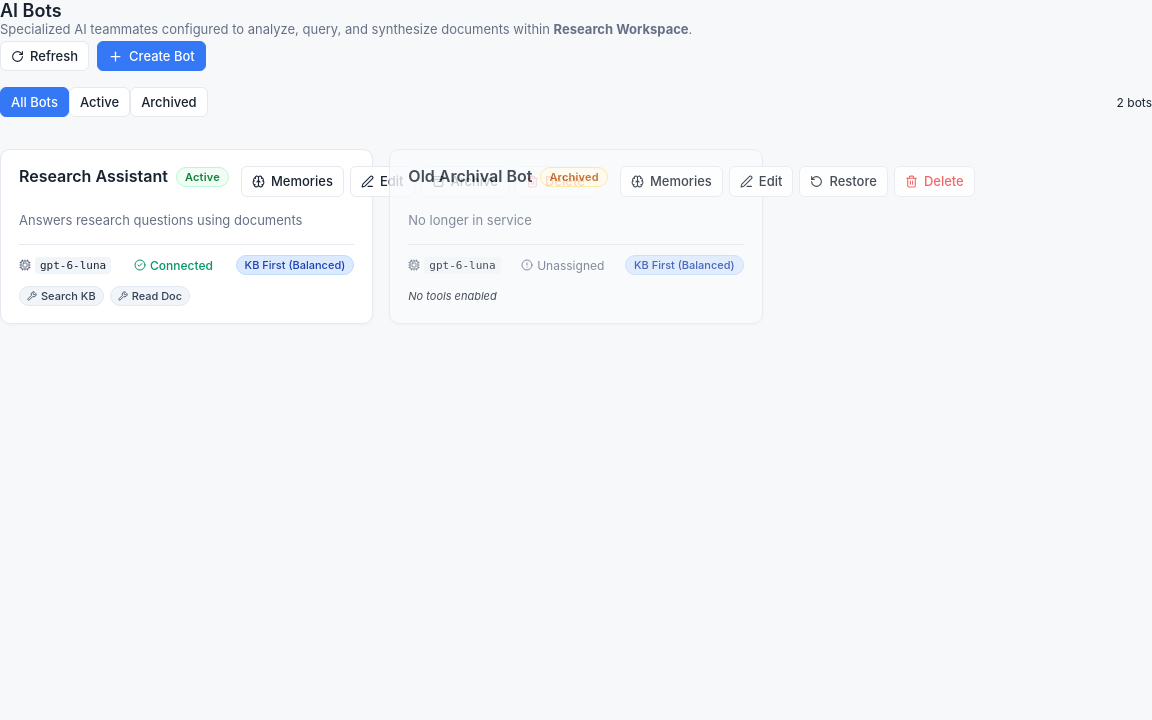
Scenario: WorkspaceBotsPage Integration (Phase 6 Step 6.6) › 5. Lifecycle Dialogs › unarchives an archived Bot through BotUnarchiveDialog
The image size is (1152, 720).
Check: the heading "Old Archival Bot" is shown, box [408,166,532,187]
Click the button "Restore": [844, 182] box [799,166,888,197]
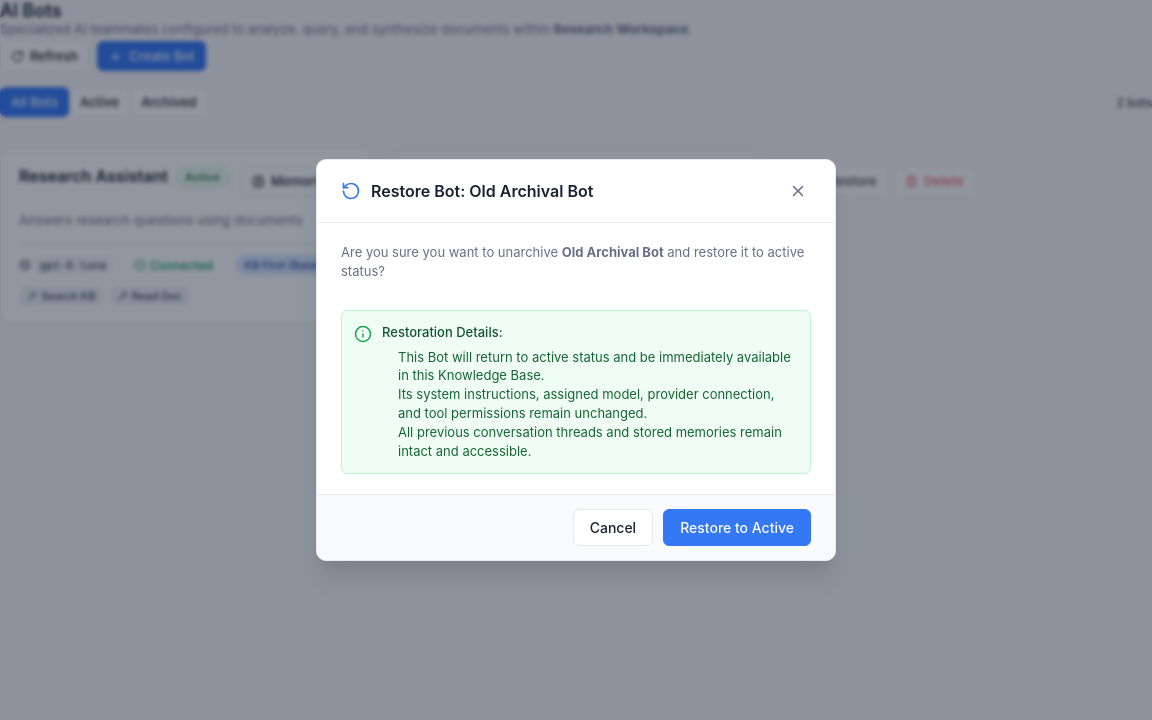
Check: the dialog with test id "unarchive-bot-dialog" is shown, box [316,159,836,561]
Check: the heading "Restore Bot: Old Archival Bot" is shown, box [371,181,593,201]
Click the button with test id "unarchive-bot-confirm-btn": [737, 528] box [663,509,811,546]
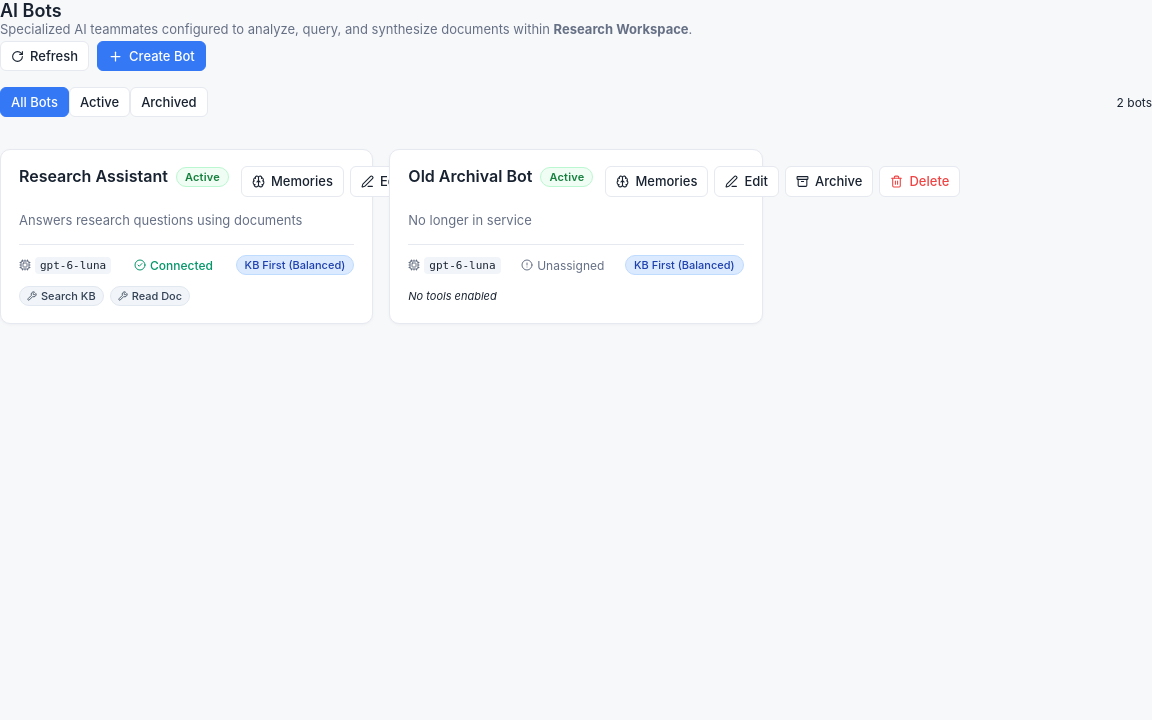
Check: the dialog with test id "unarchive-bot-dialog" is gone
